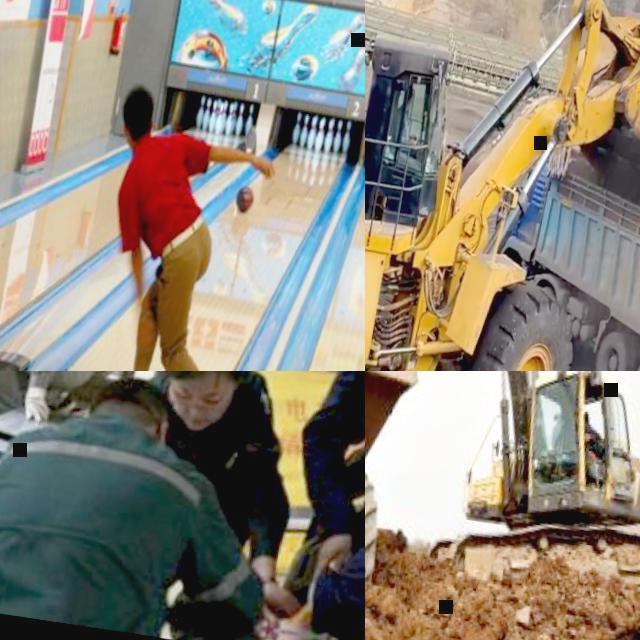machinery: (365, 0, 640, 371), (365, 371, 640, 609), (473, 116, 640, 371), (365, 371, 434, 624)
no_helmet: (88, 371, 176, 423), (121, 81, 157, 122), (405, 86, 418, 104)
no_mask: (174, 404, 224, 434)
no_vest: (0, 403, 207, 639), (157, 384, 266, 530), (118, 128, 214, 254), (393, 110, 422, 150)
person: (0, 371, 304, 640), (71, 78, 300, 371), (112, 371, 330, 631), (271, 371, 365, 640), (0, 371, 124, 441), (391, 84, 429, 152)
